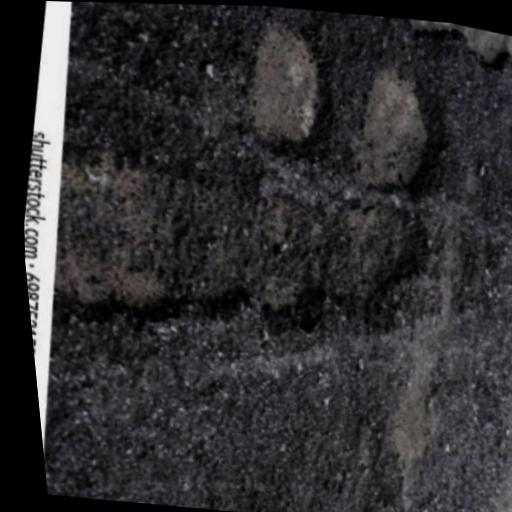pothole: (159, 82, 483, 211), (194, 27, 512, 106), (34, 13, 87, 309)
